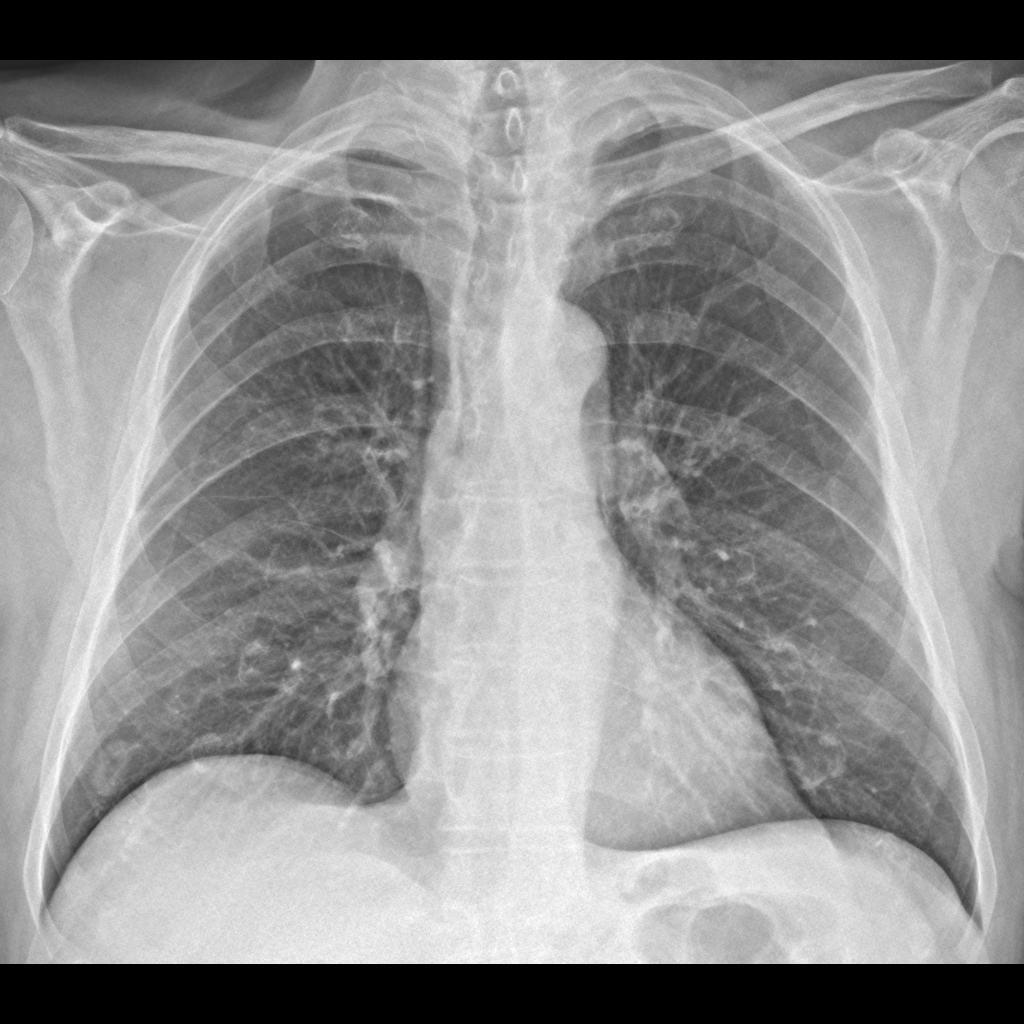Nodule: (90, 728, 145, 802)
